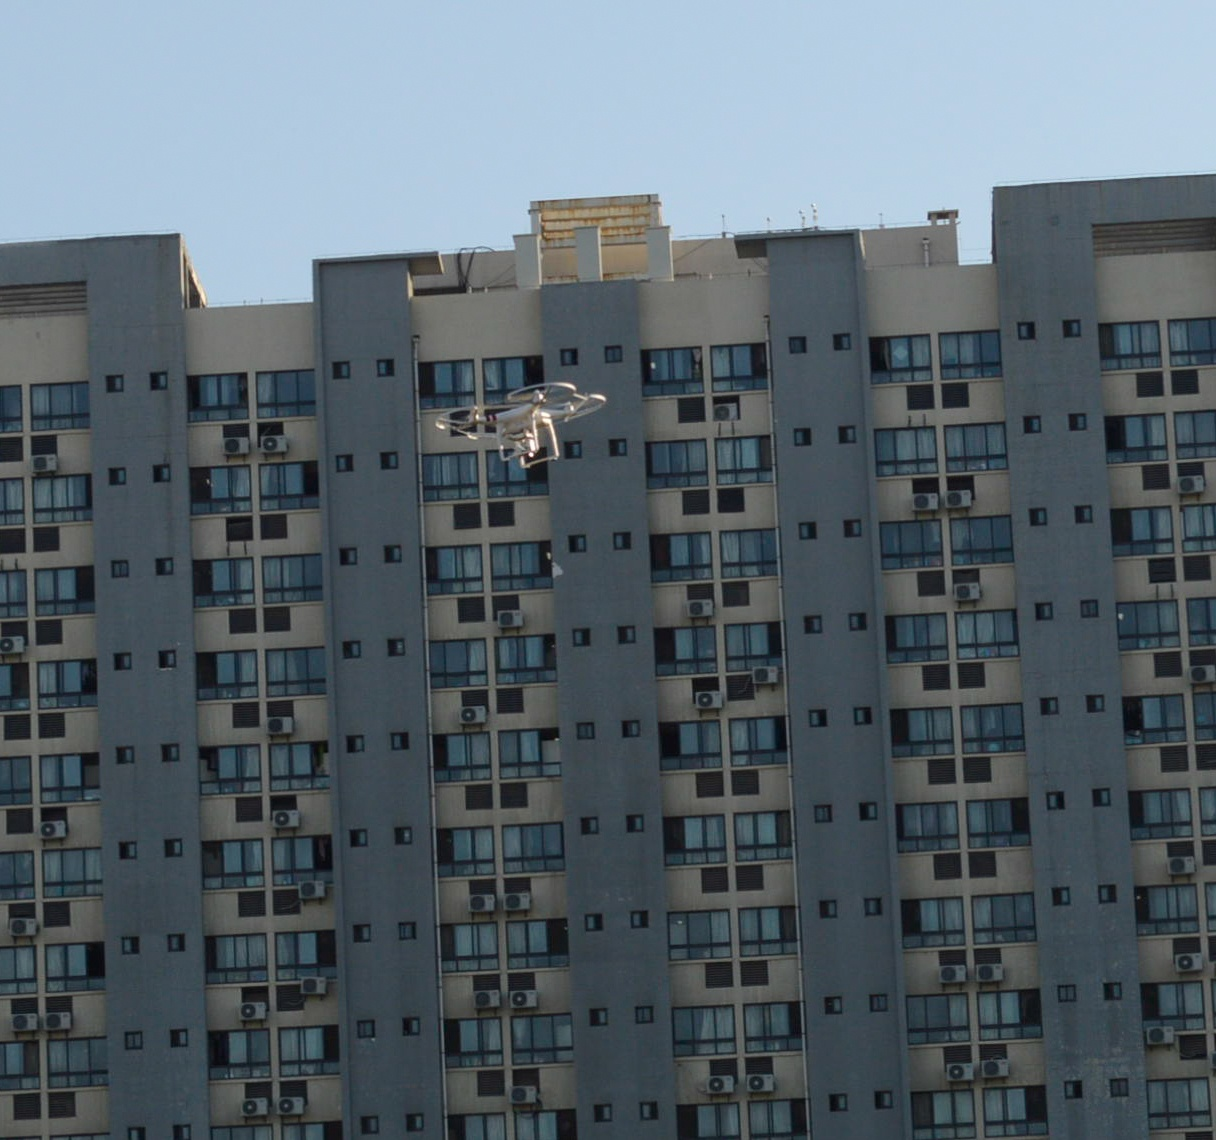DJI: (433, 380, 610, 468)
